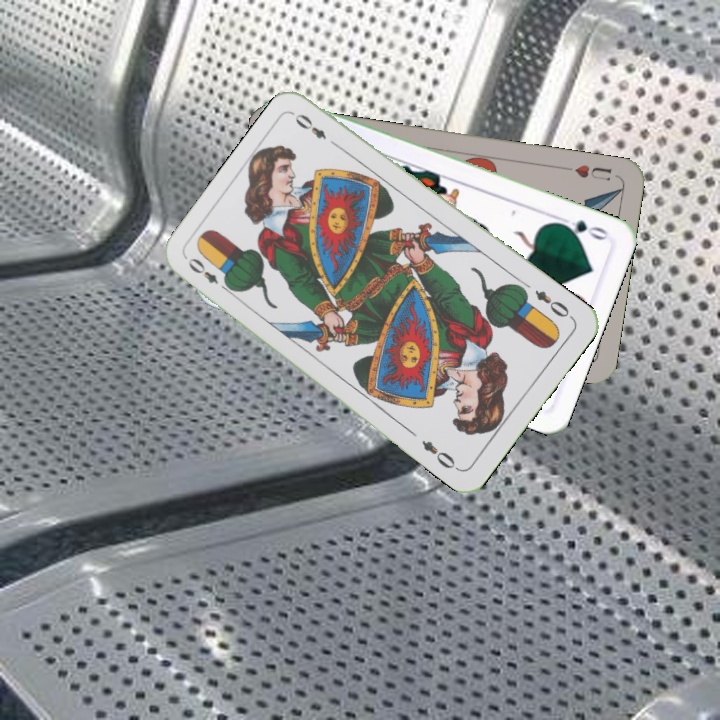EO: (183, 253, 234, 296), (530, 286, 576, 322)
GO: (553, 212, 610, 243)
HU: (570, 160, 614, 184)
